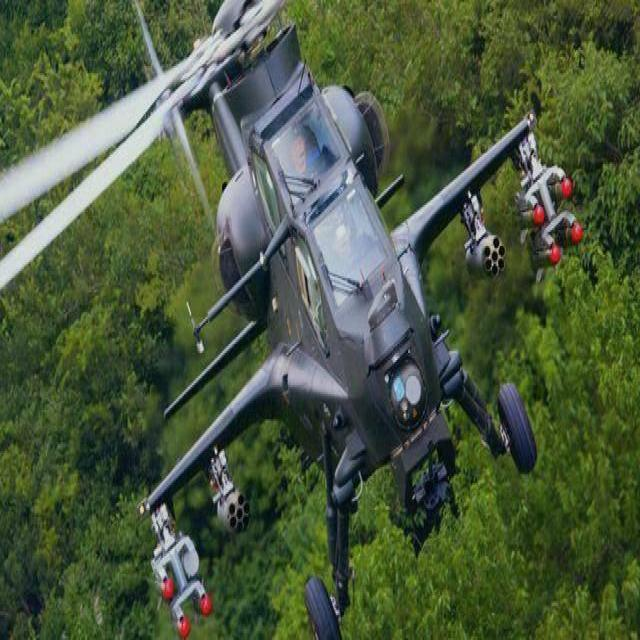MIL_HELO: (0, 1, 593, 640)
